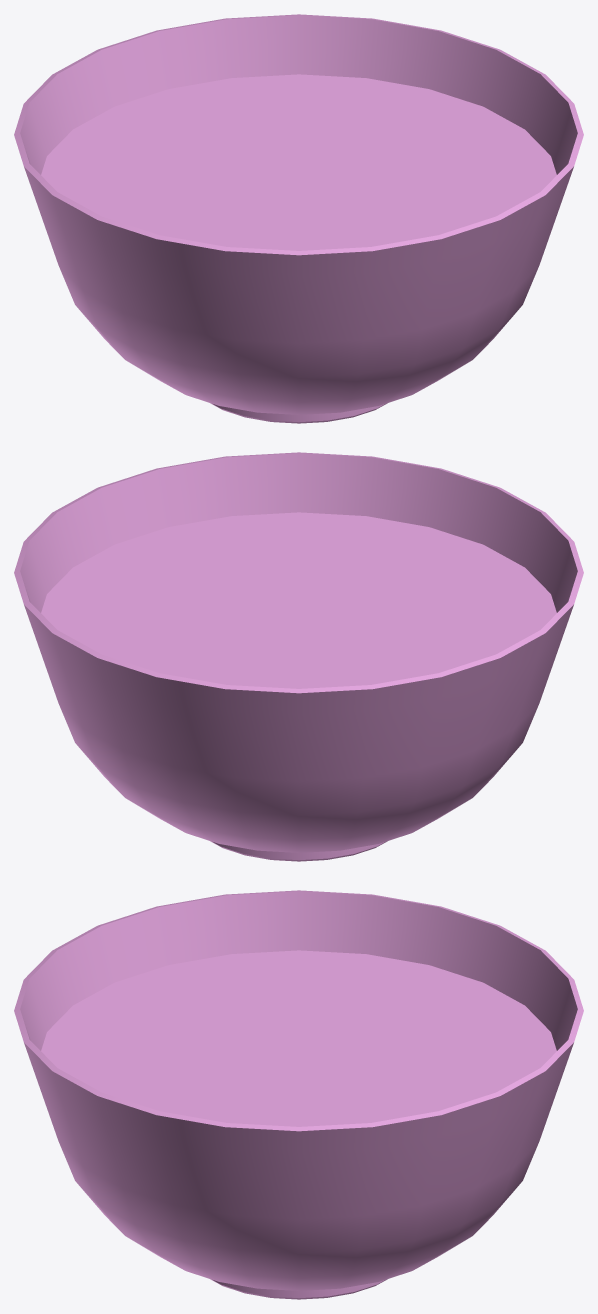
Rendered from FBX_LiquidDiet.fbx.
The picture shows the model from 3 angles, top to bottom: view 1: azimuth 30°, elevation 25°; view 2: azimuth 150°, elevation 25°; view 3: azimuth 270°, elevation 25°; orthographic projection.
Parts seen in each view (by area): view 1: SM_LiquidDiet; view 2: SM_LiquidDiet; view 3: SM_LiquidDiet.
Boxes of the visible parts, x1=… form: SM_LiquidDiet: x1=14, y1=14, x2=583, y2=423; SM_LiquidDiet: x1=14, y1=452, x2=583, y2=861; SM_LiquidDiet: x1=14, y1=890, x2=583, y2=1299.
Bounding box in the file's own units: 0.0891 × 0.0422 × 0.0891.
